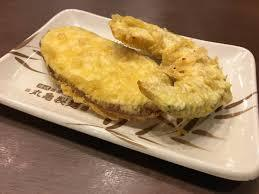pumpkin: (116, 15, 231, 116)
satumaimo: (43, 27, 161, 116)
